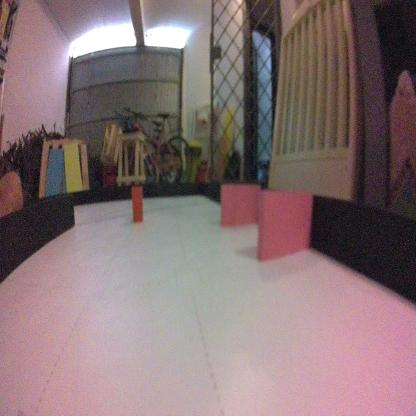magenta: (256, 188, 314, 263), (218, 179, 261, 231)
red: (131, 185, 144, 227)
